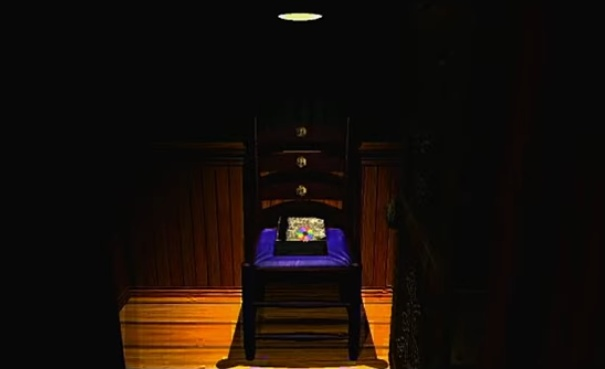Waiting: (294, 223, 316, 243)
